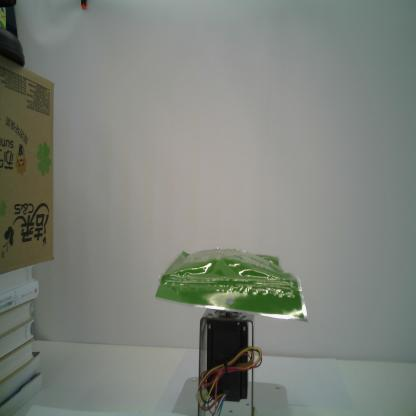Dried Fruit: (154, 247, 309, 324)
